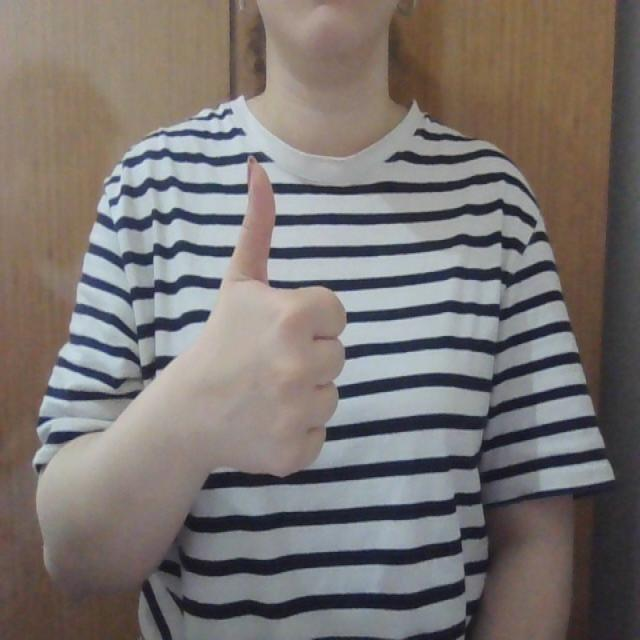Tamam: (190, 149, 350, 487)
